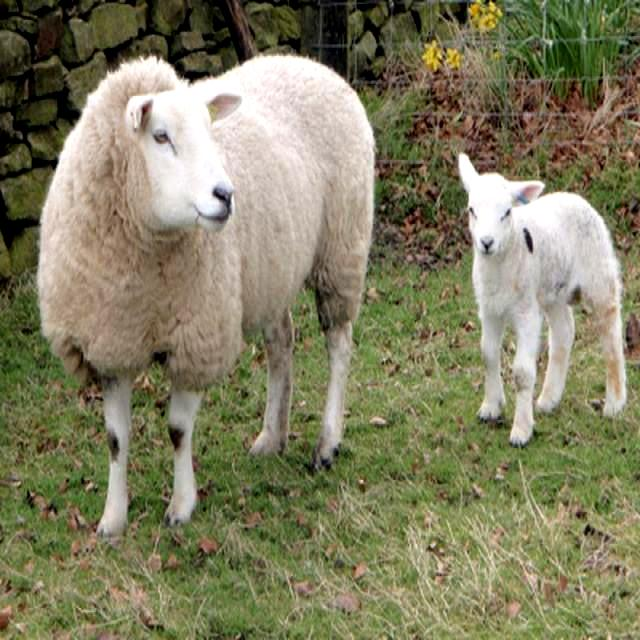sheep: (37, 51, 372, 536), (458, 153, 626, 446)
